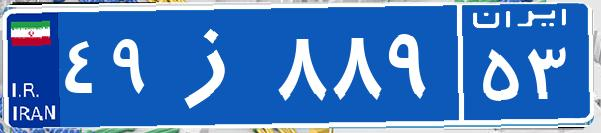3: (525, 38, 570, 115)
4: (57, 26, 110, 107)
5: (475, 38, 525, 113)
8: (273, 28, 330, 110), (330, 28, 385, 110)
9: (385, 28, 445, 110), (110, 28, 158, 105)
ز: (158, 15, 273, 115)
